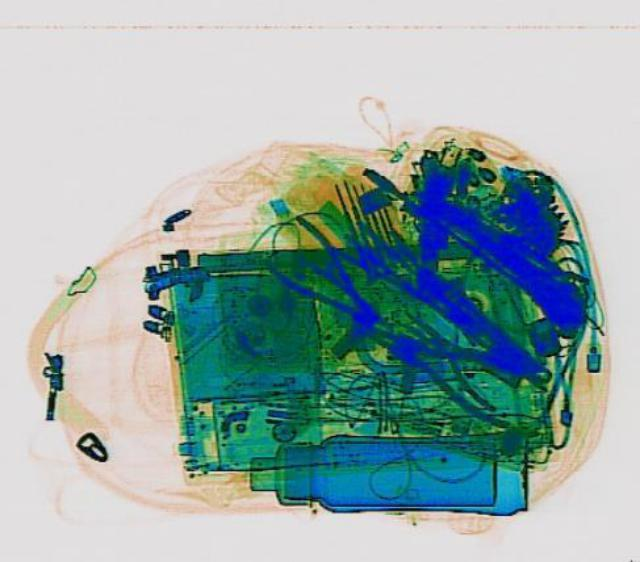Pliers: (349, 301, 549, 432), (243, 209, 402, 341)
